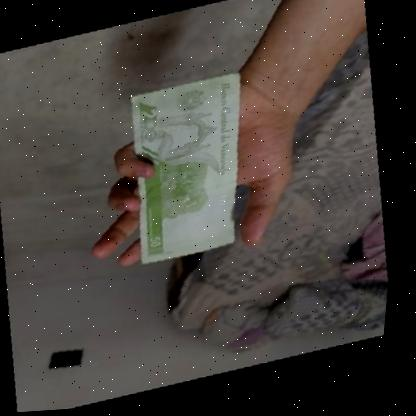fifty-back-vef: (119, 74, 252, 270)
